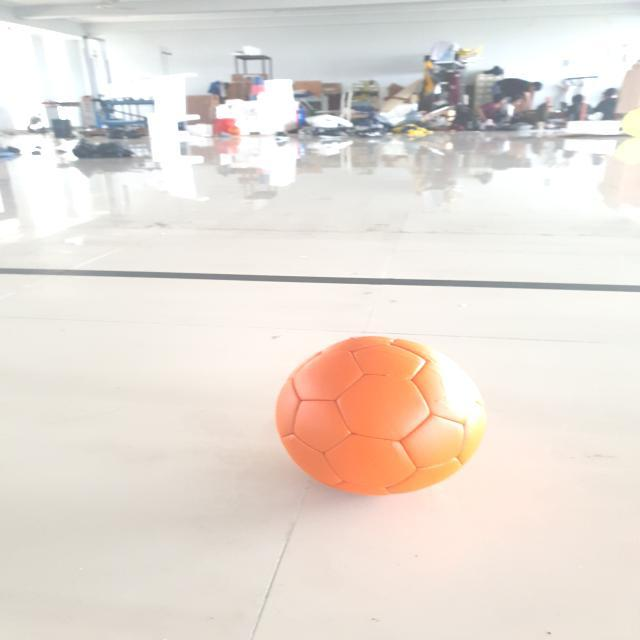bola: (264, 327, 495, 502)
